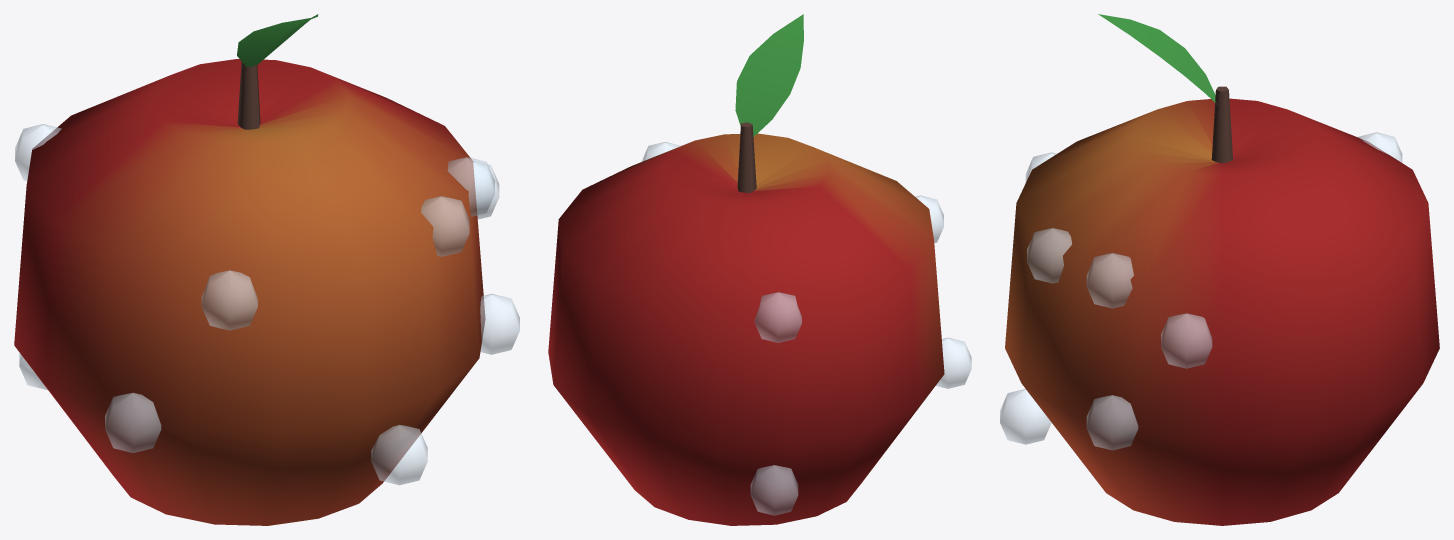
The model's file is fruit-apple-wet.gltf.
The picture shows the model from 3 angles, left to right: view 1: azimuth 30°, elevation 25°; view 2: azimuth 150°, elevation 25°; view 3: azimuth 270°, elevation 25°; orthographic projection. The views are drawn at different scales.
Bounding box in the file's own units: 0.4026 × 0.4523 × 0.3842.
